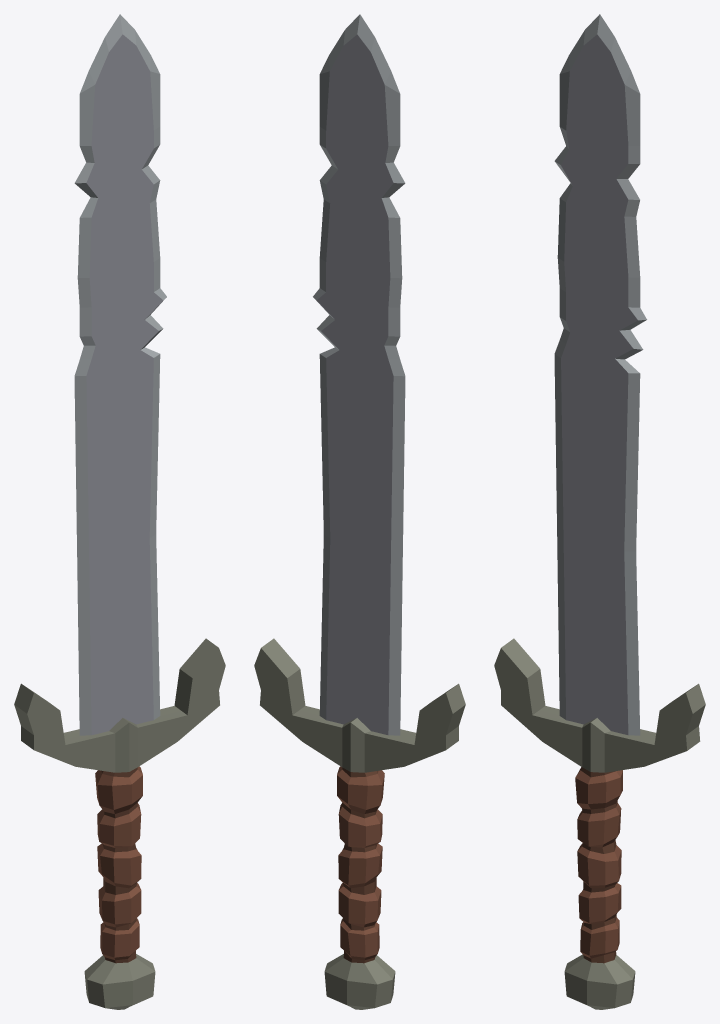
Rendered from quaternius-medieval-weapons-sword.glb.
3 renders of one model, left to right at view 1: azimuth 30°, elevation 25°; view 2: azimuth 150°, elevation 25°; view 3: azimuth 330°, elevation 25°, orthographic.
Visible parts, largest first — view 1: Sword; view 2: Sword; view 3: Sword.
Boxes of the visible parts, x1,y1,x2,y2 form: Sword: (14, 14, 225, 1009); Sword: (254, 14, 465, 1009); Sword: (494, 14, 705, 1009).
Bounding box in the file's own units: 1.14 × 5.45 × 0.2609.
Materials: 1 (1 with a texture image).
